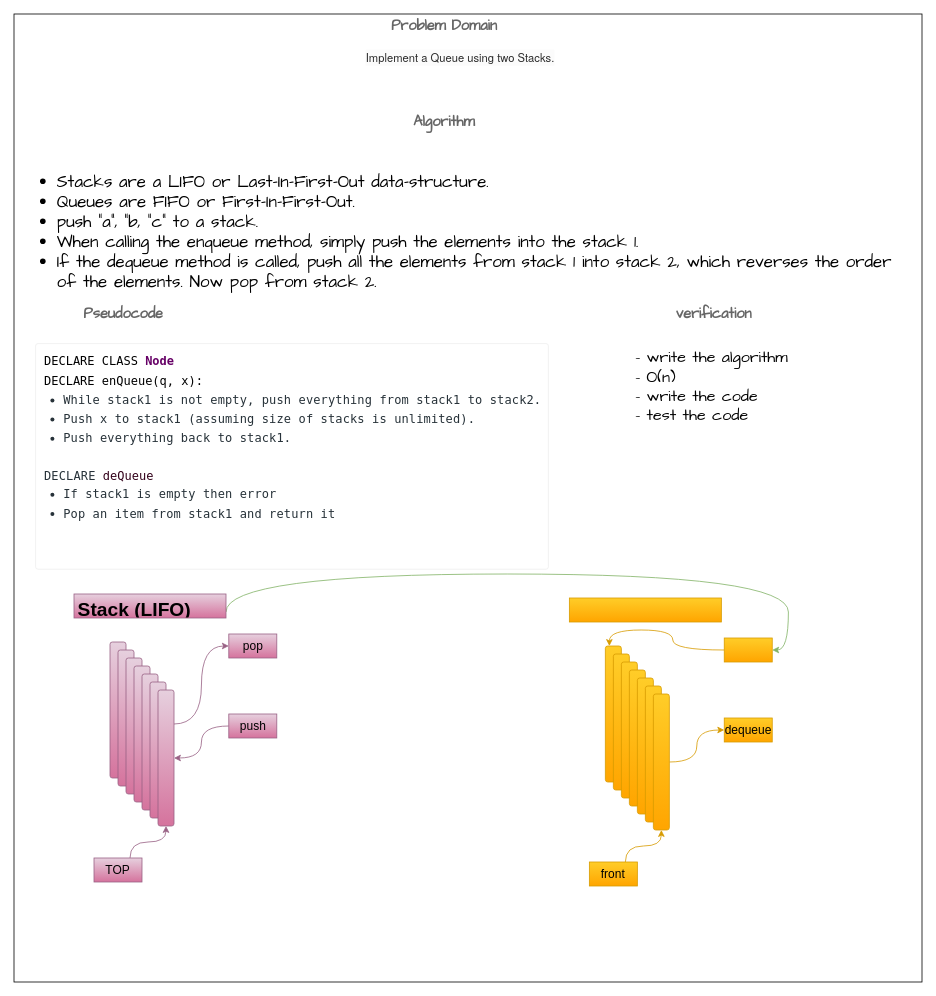
Some shapes in this 936 by 996 pixel diagram are drawn without their labels. The shapes that lost their labels are listed below. From the top down, each one's box as (x1, y1, x2, y2) in pixels, then its label:
(569, 597, 721, 622): Queue(FIFO)
(723, 637, 772, 662): enqueue
